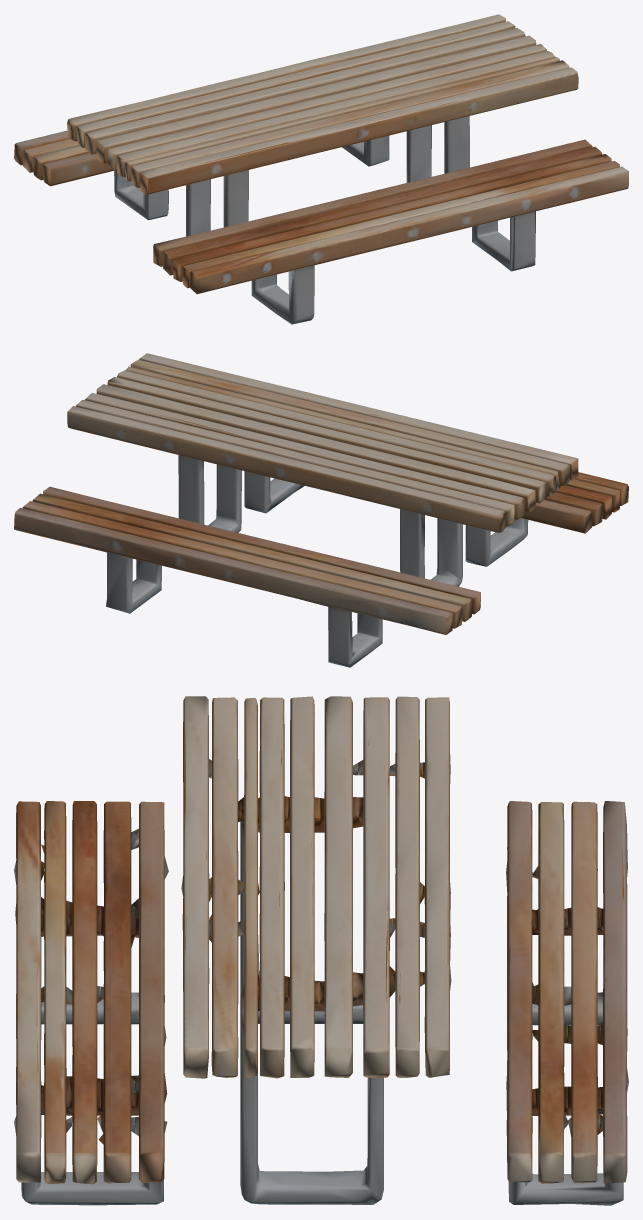
The model's file is kursi_taman.glb.
3 views of the same model, one above another, from view 1: azimuth 30°, elevation 25°; view 2: azimuth 150°, elevation 25°; view 3: azimuth 270°, elevation 25° (orthographic). The views are drawn at different scales.
Visible parts, largest first — view 1: tripo_node_b01e4e72; view 2: tripo_node_b01e4e72; view 3: tripo_node_b01e4e72.
Part boxes in pixels (x1=…): tripo_node_b01e4e72: x1=14, y1=14, x2=628, y2=324; tripo_node_b01e4e72: x1=14, y1=353, x2=628, y2=667; tripo_node_b01e4e72: x1=14, y1=696, x2=628, y2=1205.
Bounding box in the file's own units: 100 × 31.36 × 73.61.
1 material, 1 textured.
